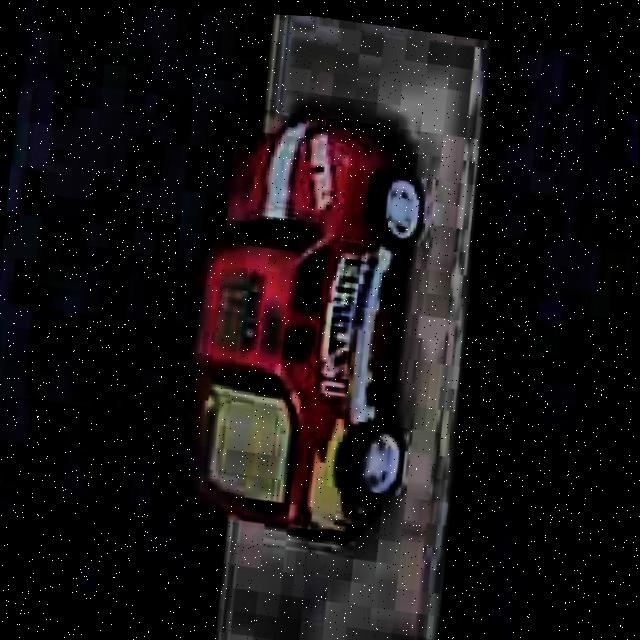car: (168, 97, 441, 554)
